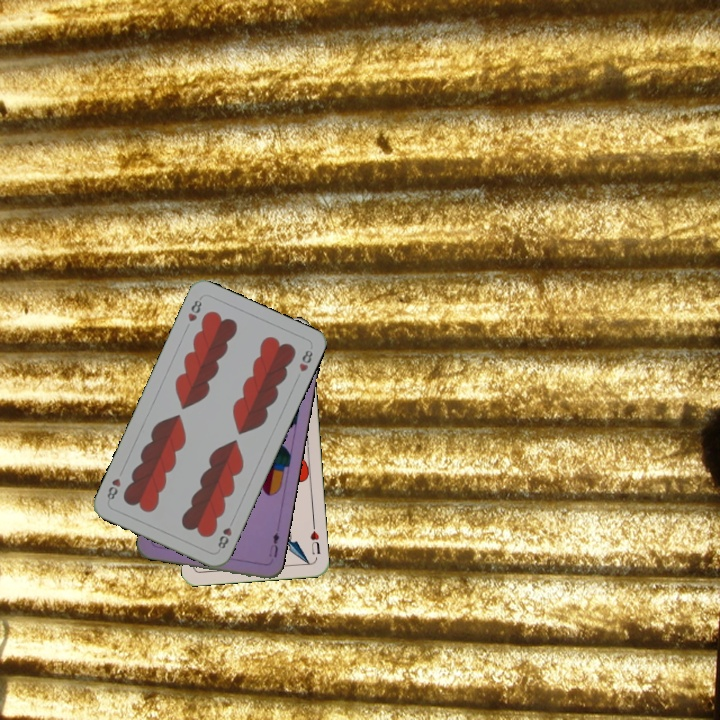EU: (265, 528, 281, 560)
H8: (214, 515, 237, 551), (184, 294, 205, 324)
HU: (306, 520, 323, 557)
